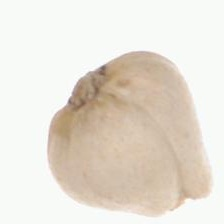L3: (159, 193, 212, 213)
L4: (45, 50, 214, 217)
